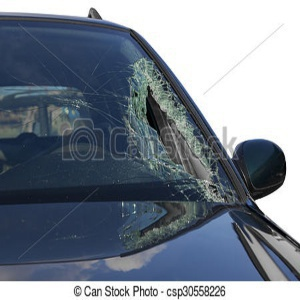front_windshield_glass: (85, 57, 184, 132)
